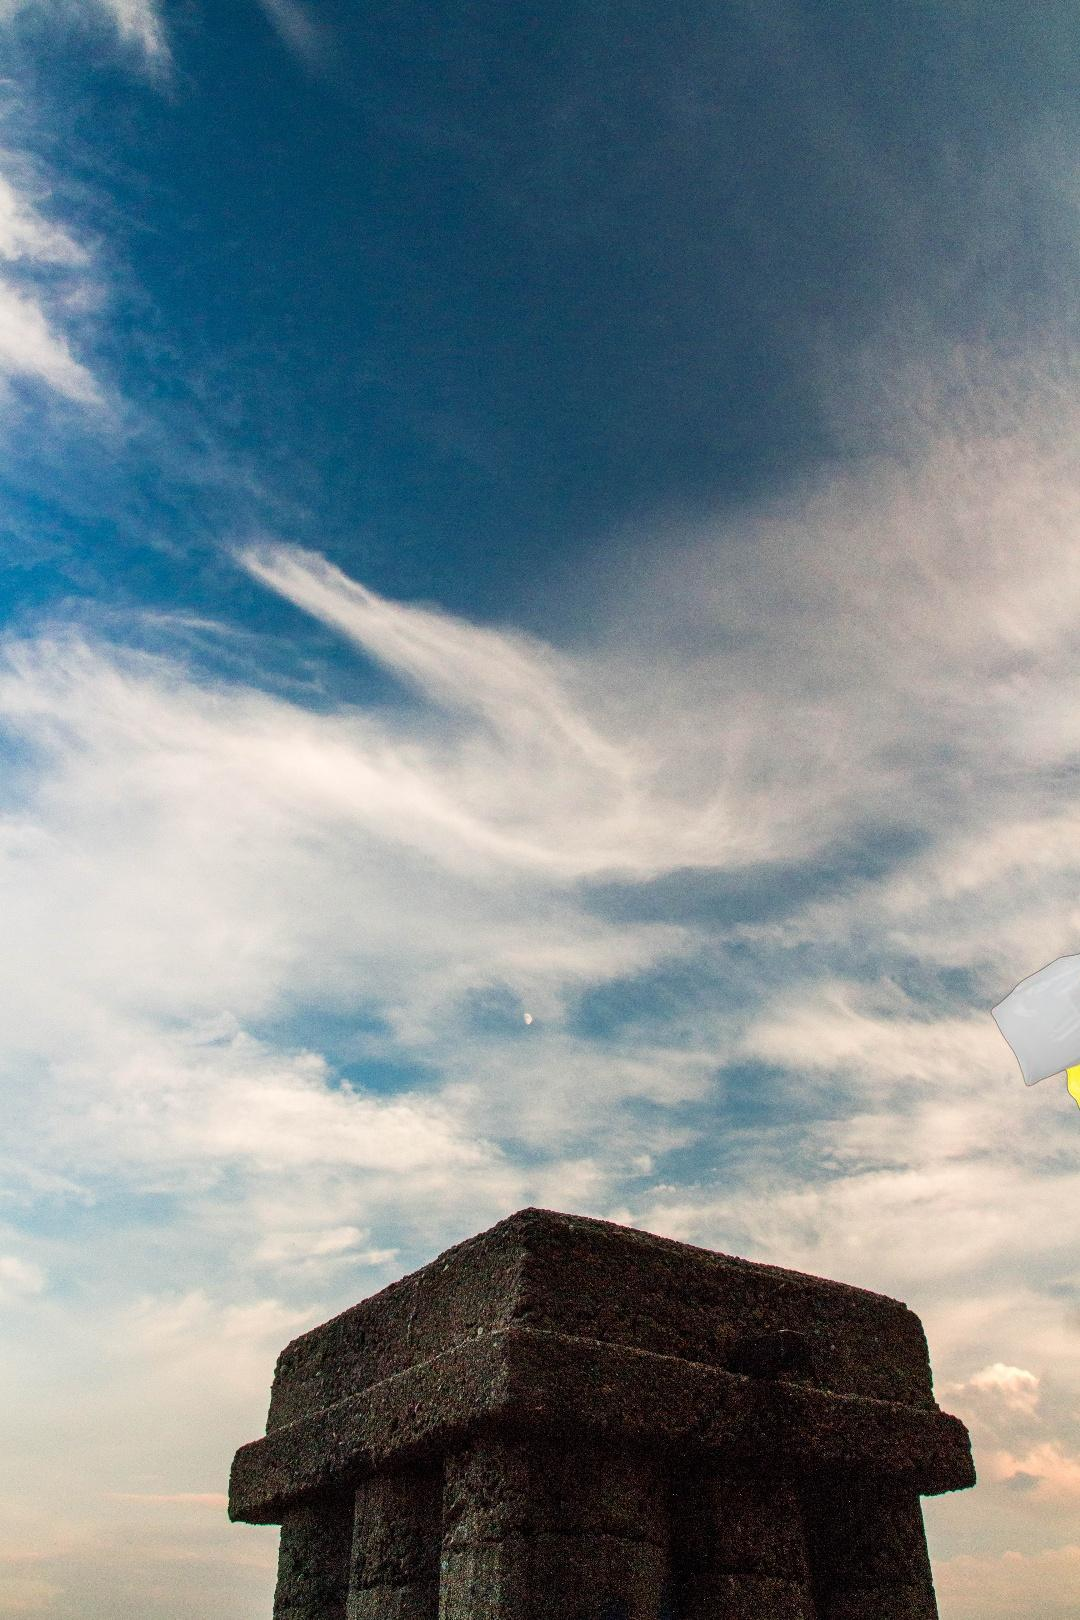plastic-bag: (988, 928, 1080, 1121)
